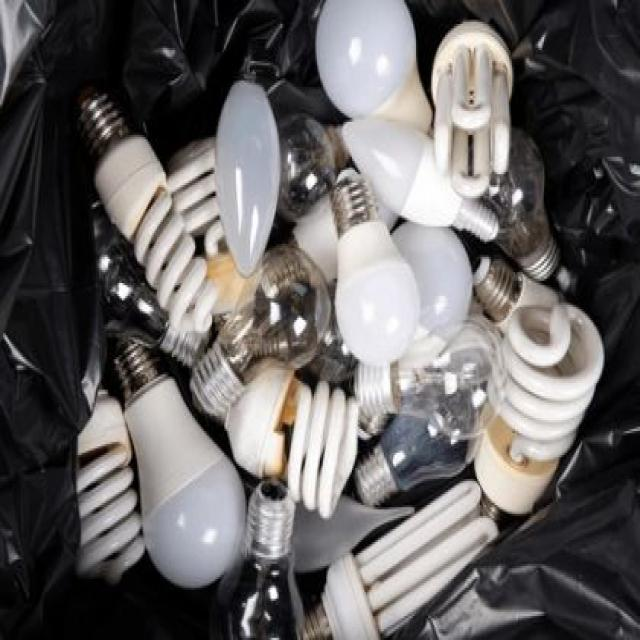electronic: (67, 0, 603, 599), (108, 327, 247, 588), (314, 0, 417, 120)
